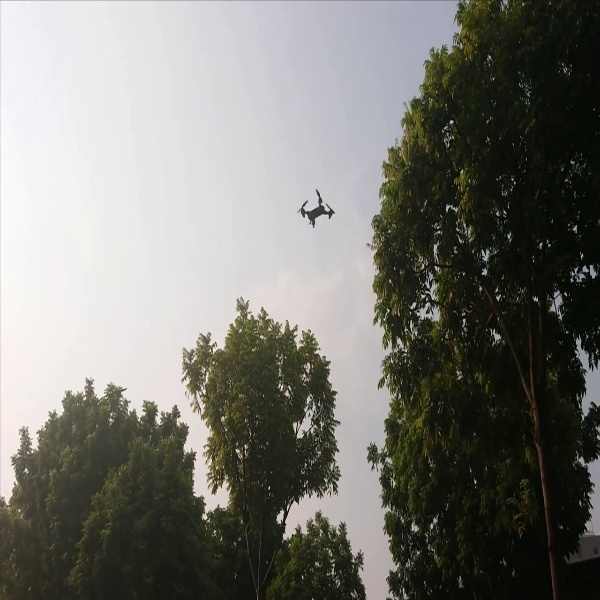drone: (286, 186, 340, 235)
